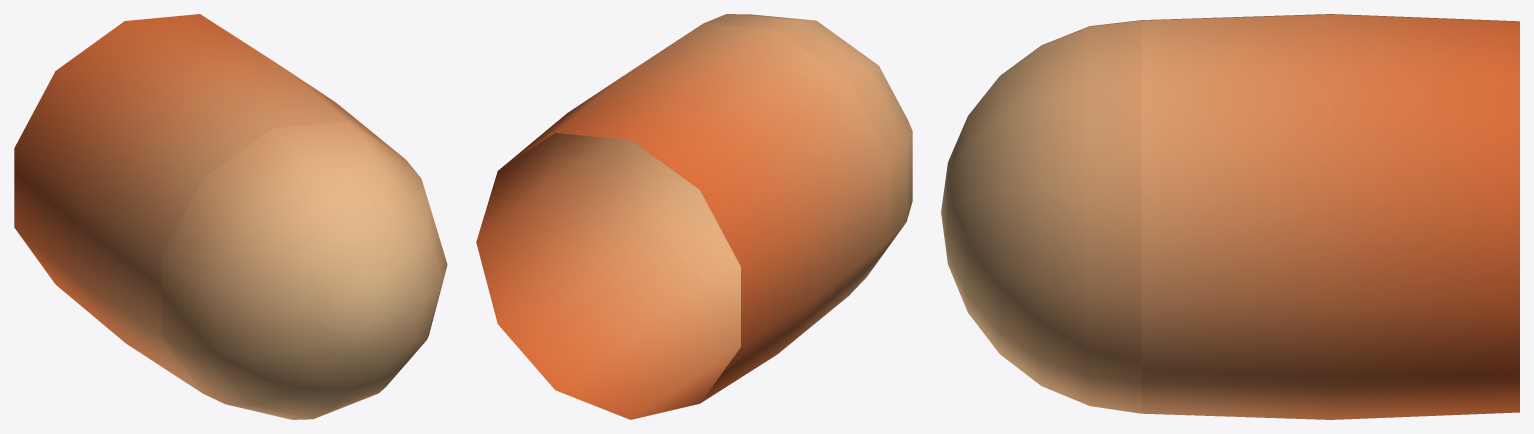
File: foxtail5.obj
3 renders of one model, left to right at view 1: azimuth 30°, elevation 25°; view 2: azimuth 150°, elevation 25°; view 3: azimuth 270°, elevation 25°, orthographic. The views are drawn at different scales.
Visible parts, largest first — view 1: tail5; view 2: tail5; view 3: tail5.
Part boxes in pixels (box(x1,y1,x2,y2)): tail5: box(14, 14, 447, 419); tail5: box(476, 14, 912, 419); tail5: box(941, 14, 1519, 419).
Size of the model in its own units: 0.1751 by 0.1769 by 0.2499.
1 material, 1 textured.
